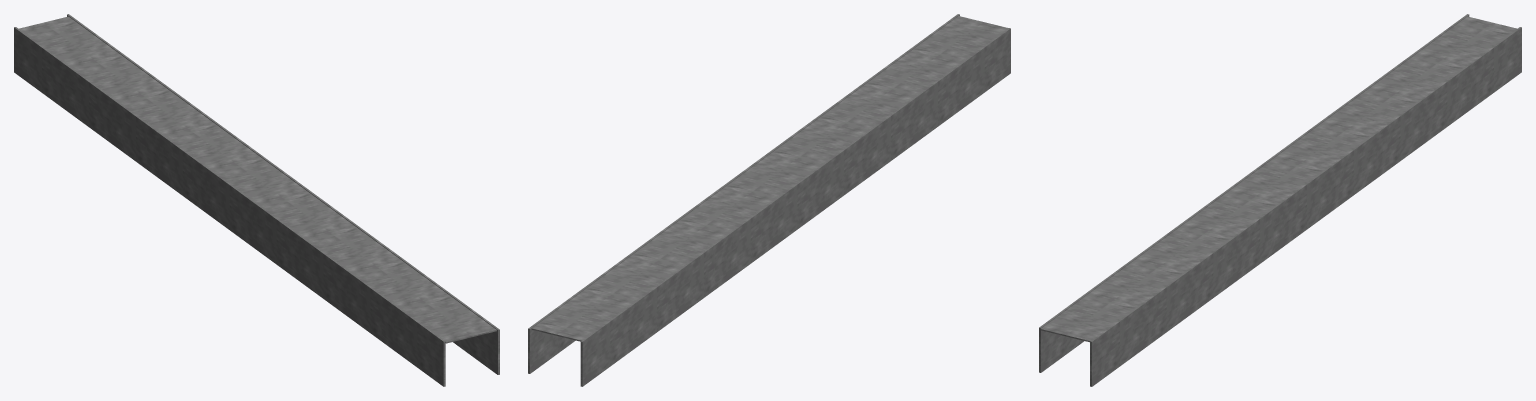
The model's file is Dutyglas.glb.
3 views of the same model, side by side, from view 1: azimuth 30°, elevation 25°; view 2: azimuth 150°, elevation 25°; view 3: azimuth 330°, elevation 25° (orthographic).
Visible parts, largest first — view 1: Dutyglas; view 2: Dutyglas; view 3: Dutyglas.
Part boxes in pixels (x1=…): Dutyglas: x1=14, y1=14, x2=499, y2=386; Dutyglas: x1=528, y1=14, x2=1010, y2=386; Dutyglas: x1=1039, y1=14, x2=1521, y2=386.
Size of the model in its own units: 86 by 68 by 1176.
1 material, 1 textured.
